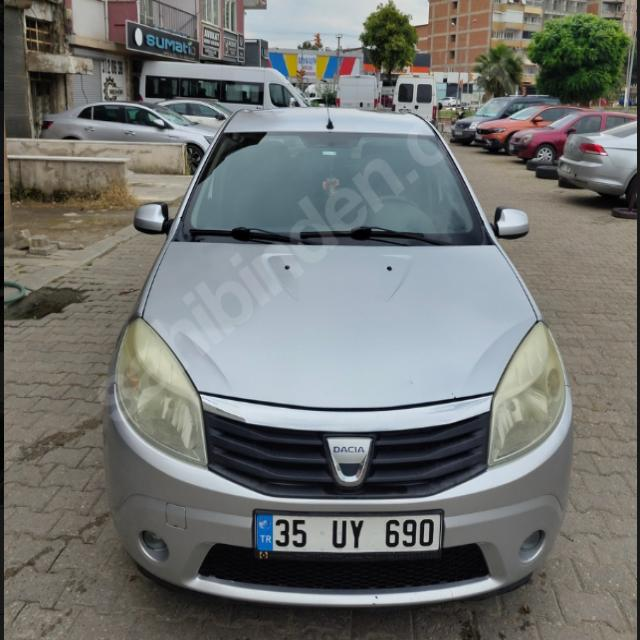dacia: (324, 432, 376, 492)
